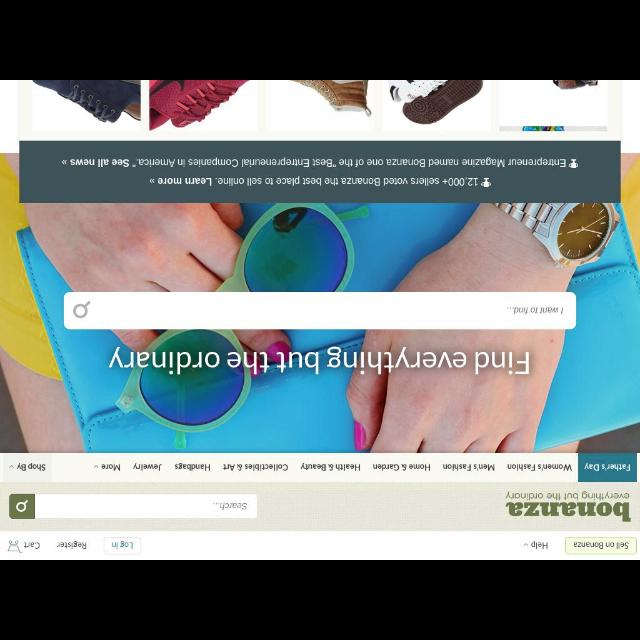backgroundimage: (1, 154, 640, 452)
icon: (74, 302, 90, 318), (8, 540, 22, 554), (16, 500, 28, 512), (568, 159, 578, 169), (482, 178, 491, 186), (523, 542, 529, 546), (8, 464, 14, 468), (150, 179, 154, 183), (62, 160, 66, 164), (94, 465, 98, 467)
image: (500, 81, 608, 131), (150, 81, 256, 131), (34, 81, 140, 131), (268, 80, 372, 130), (383, 81, 491, 129)
input: (64, 292, 576, 330), (10, 494, 256, 518)
multitab: (1, 454, 640, 482)
spinner: (1, 454, 51, 482), (90, 461, 122, 473), (522, 540, 550, 550)
text: (110, 346, 528, 374), (70, 157, 566, 167), (158, 177, 478, 185), (506, 503, 630, 521), (506, 492, 628, 500), (508, 464, 570, 471), (508, 307, 562, 315), (300, 464, 360, 471), (222, 464, 288, 470), (444, 464, 494, 471), (372, 464, 430, 470), (574, 543, 628, 549), (584, 464, 630, 471), (174, 464, 210, 471), (133, 464, 161, 471), (17, 464, 45, 471), (214, 503, 246, 509), (56, 542, 85, 548), (112, 542, 132, 548), (102, 464, 120, 470), (531, 542, 547, 548), (24, 543, 40, 549)
textbutton: (566, 538, 636, 554), (104, 536, 140, 554)
toolbar: (1, 482, 639, 530)
